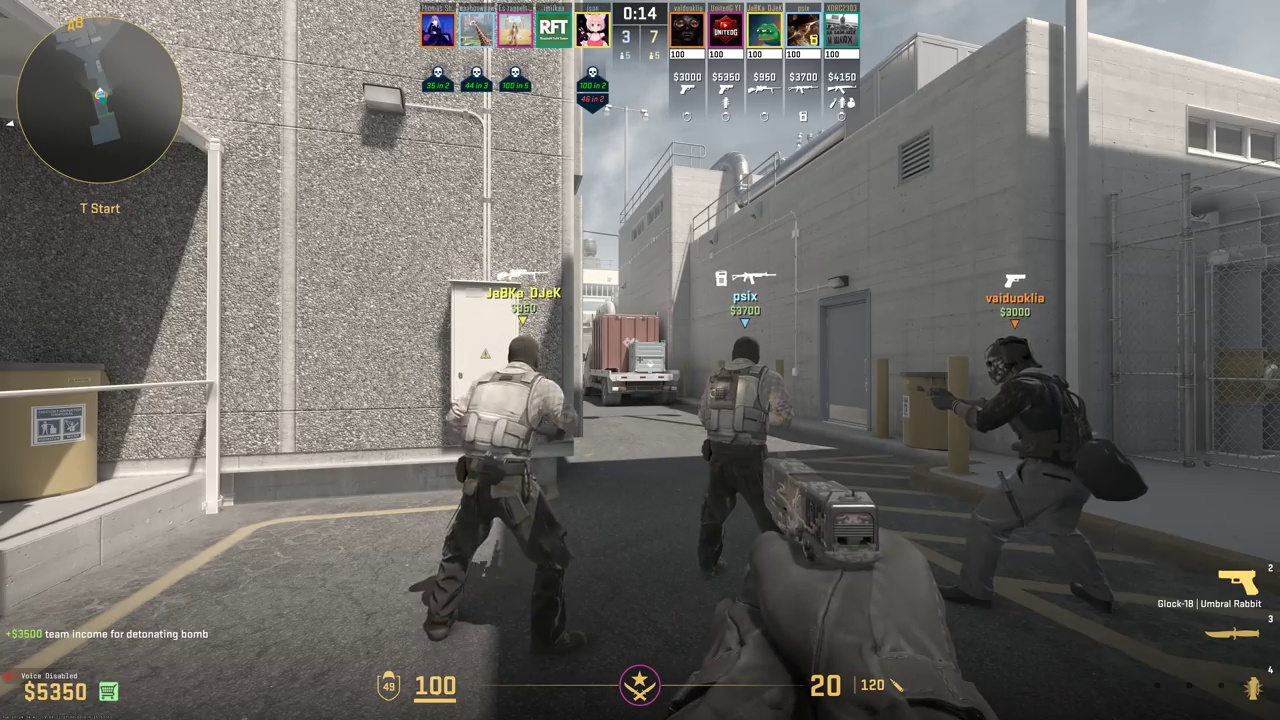Terrorist: (950, 333, 1110, 607), (446, 335, 572, 659), (699, 335, 796, 579)
